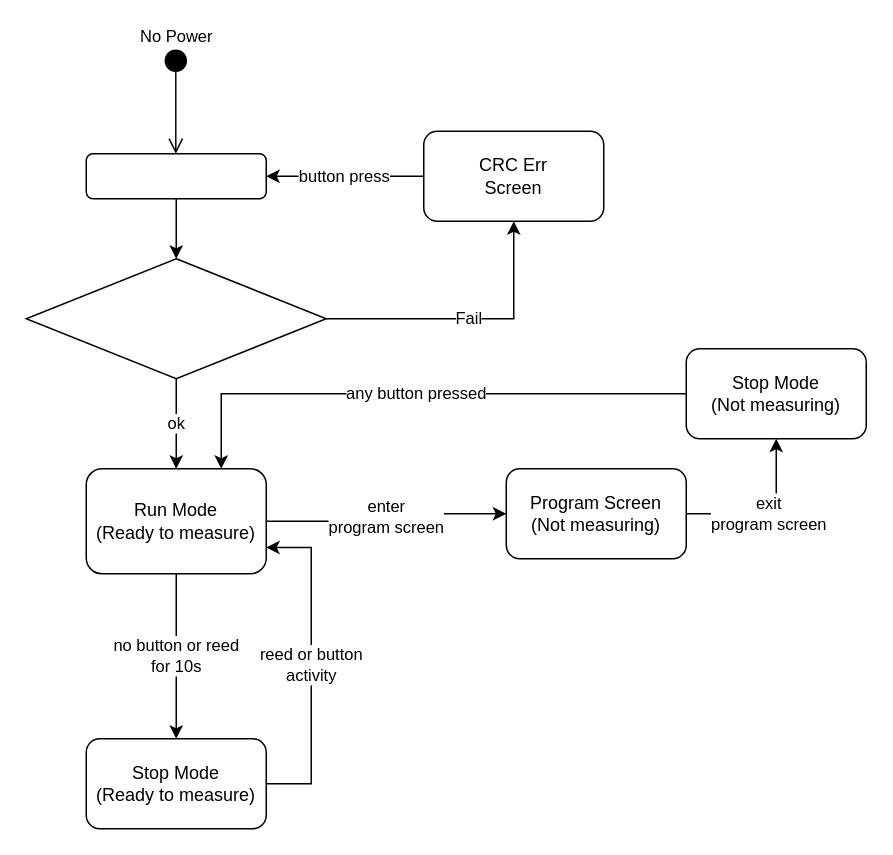
This 893x855 diagram has some shape labels left out. Each missing label, with the box of its shape:
Check CRC of the Flash Content: (25, 257, 326, 379)
HW Init: (85, 152, 266, 199)
